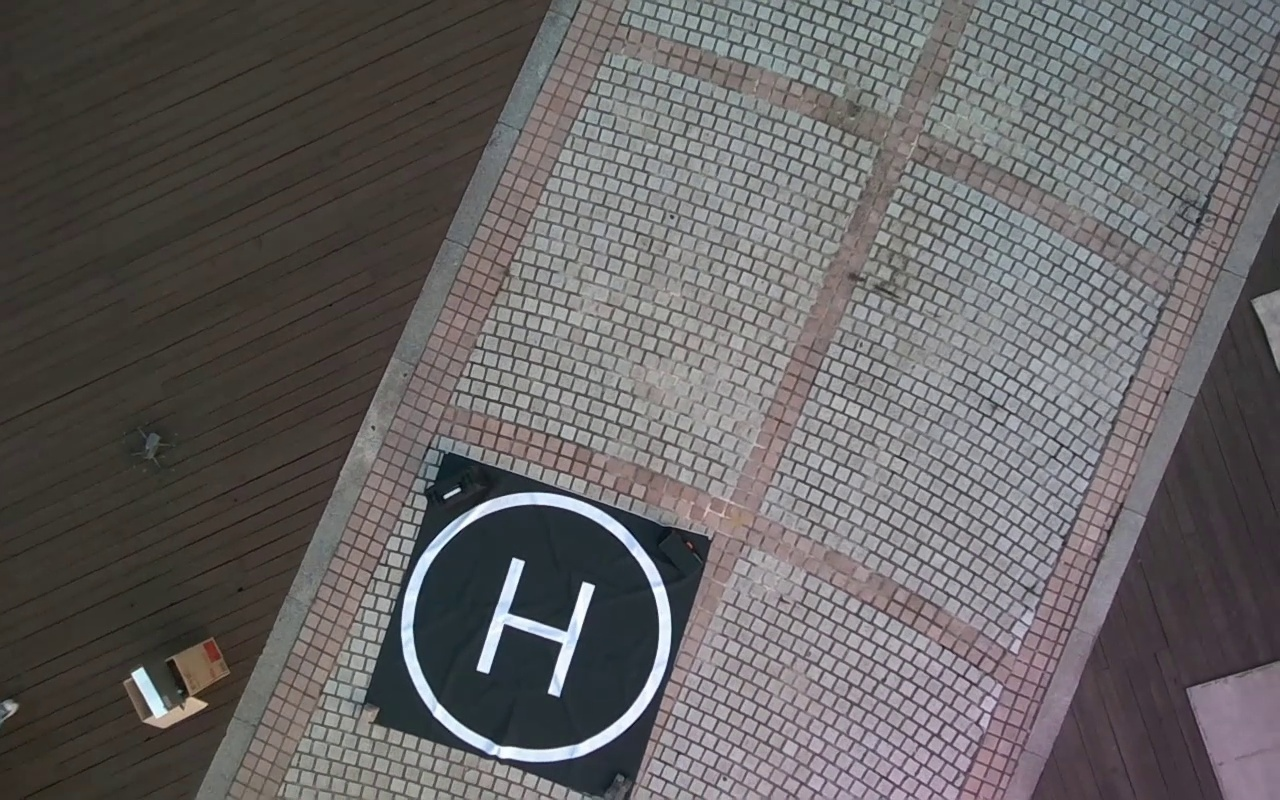H: (475, 555, 595, 698)
heliport: (399, 488, 675, 765)
